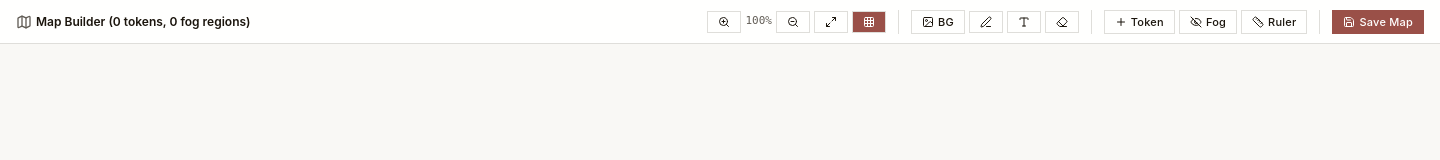
Test: MapBuilderView › adds a fog region that starts hidden
The width and height of the screenshot is (1440, 160).
Click the button titled "Add Fog-of-War Region" at (1208, 22), box [1179, 10, 1237, 34]
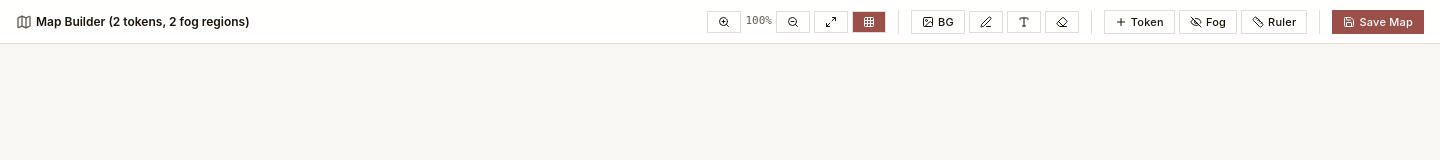
Check: the text "Map Builder (2 tokens, 2 fog regions)" is shown, box [36, 12, 250, 30]
